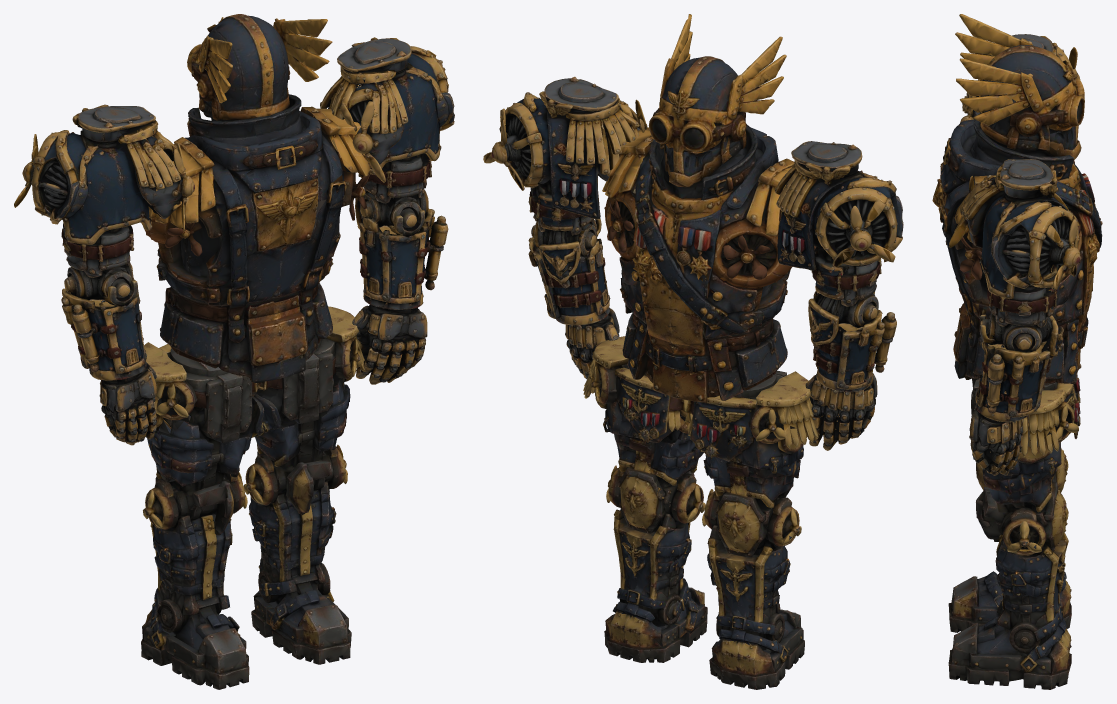
File: Gear_T16.glb
3 renders of one model, left to right at view 1: azimuth 30°, elevation 25°; view 2: azimuth 150°, elevation 25°; view 3: azimuth 270°, elevation 25°, orthographic. The views are drawn at different scales.
Visible parts, largest first — view 1: Torso_Upper, ArmL_Upper, LegL_Upper, ArmR_Upper, LegR_Upper, Head, Torso_Lower, ArmR_Lower, ArmL_Lower, LegL_Foot, LegR_Foot, LegR_Lower (+3 smaller); view 2: Torso_Upper, LegL_Upper, ArmR_Upper, ArmL_Upper, LegR_Upper, Head, Torso_Lower, ArmL_Lower, ArmR_Lower, LegR_Foot, LegL_Foot, LegL_Lower (+3 smaller); view 3: ArmR_Upper, Torso_Upper, Head, LegR_Upper, LegR_Foot, ArmR_Lower, LegR_Lower, Torso_Lower, LegL_Foot, ArmR_Hand, ArmL_Upper, LegL_Upper.
Part boxes in pixels (bbox=[...]): Torso_Upper: bbox=[145, 92, 369, 320]; ArmL_Upper: bbox=[14, 104, 194, 275]; LegL_Upper: bbox=[143, 342, 264, 535]; ArmR_Upper: bbox=[320, 37, 454, 204]; LegR_Upper: bbox=[243, 306, 365, 512]; Head: bbox=[187, 14, 332, 113]; Torso_Lower: bbox=[160, 283, 332, 382]; ArmR_Lower: bbox=[355, 190, 448, 323]; ArmL_Lower: bbox=[61, 262, 154, 391]; LegL_Foot: bbox=[141, 583, 249, 689]; LegR_Foot: bbox=[251, 556, 351, 664]; LegR_Lower: bbox=[249, 496, 336, 574]; Torso_Upper: bbox=[602, 125, 816, 347]; LegL_Upper: bbox=[685, 370, 819, 555]; ArmR_Upper: bbox=[483, 76, 649, 233]; ArmL_Upper: bbox=[775, 141, 903, 301]; LegR_Upper: bbox=[583, 336, 705, 534]; Head: bbox=[648, 14, 786, 152]; Torso_Lower: bbox=[622, 310, 787, 403]; ArmL_Lower: bbox=[808, 291, 896, 392]; ArmR_Lower: bbox=[528, 219, 616, 331]; LegR_Foot: bbox=[604, 578, 707, 662]; LegL_Foot: bbox=[709, 603, 804, 689]; LegL_Lower: bbox=[707, 540, 790, 617]; ArmR_Upper: bbox=[948, 159, 1080, 325]; Torso_Upper: bbox=[932, 113, 1102, 332]; Head: bbox=[955, 14, 1084, 138]; LegR_Upper: bbox=[971, 378, 1080, 555]; LegR_Foot: bbox=[948, 598, 1071, 689]; ArmR_Lower: bbox=[971, 312, 1063, 423]; LegR_Lower: bbox=[988, 532, 1068, 615]; Torso_Lower: bbox=[953, 303, 1088, 383]; LegL_Foot: bbox=[948, 571, 1071, 632]; ArmR_Hand: bbox=[969, 419, 1023, 475]; ArmL_Upper: bbox=[960, 34, 1080, 122]; LegL_Upper: bbox=[972, 375, 1080, 492].
Bounding box in the file's own units: 4.43 × 6.25 × 1.57.
3 materials, 3 textured.
